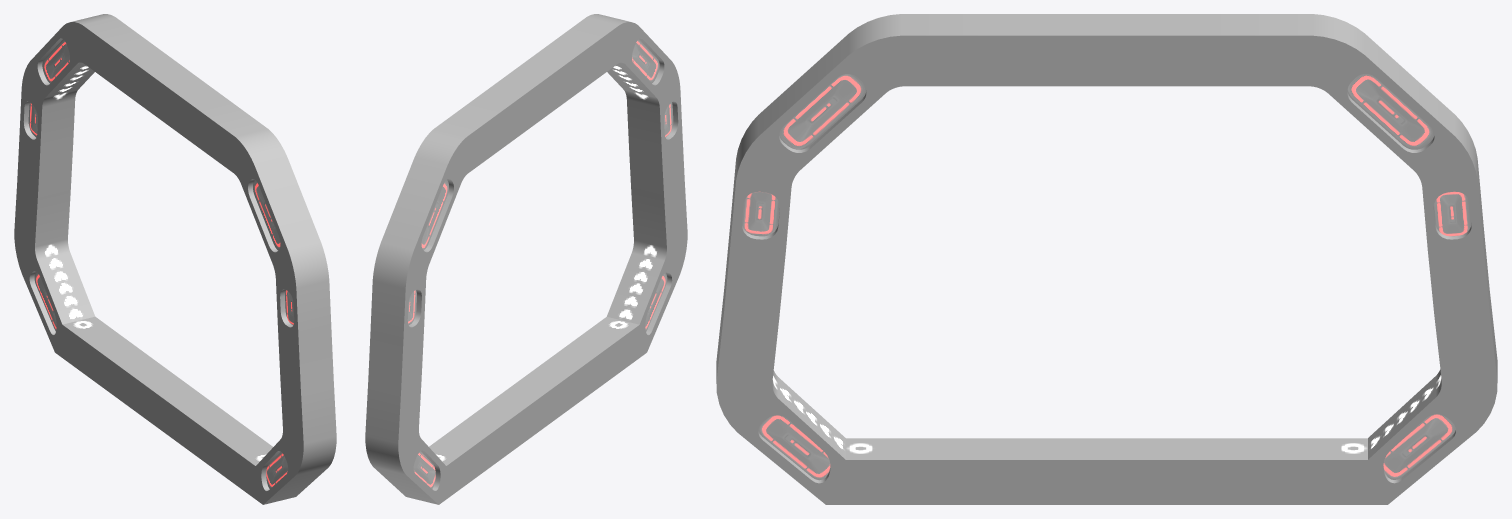
Rendered from SM_CoridorJointWall.fbx.
3 views of the same model, side by side, from view 1: azimuth 30°, elevation 25°; view 2: azimuth 150°, elevation 25°; view 3: azimuth 270°, elevation 25° (orthographic). The views are drawn at different scales.
Parts seen in each view (by area): view 1: SM_CoridorJointWall_LOD0; view 2: SM_CoridorJointWall_LOD0; view 3: SM_CoridorJointWall_LOD0.
Boxes of the visible parts, x1,y1,x2,y2 form: SM_CoridorJointWall_LOD0: (14, 14, 336, 504); SM_CoridorJointWall_LOD0: (365, 14, 687, 504); SM_CoridorJointWall_LOD0: (716, 14, 1497, 504).
Size of the model in its own units: 33.26 by 505 by 335.
